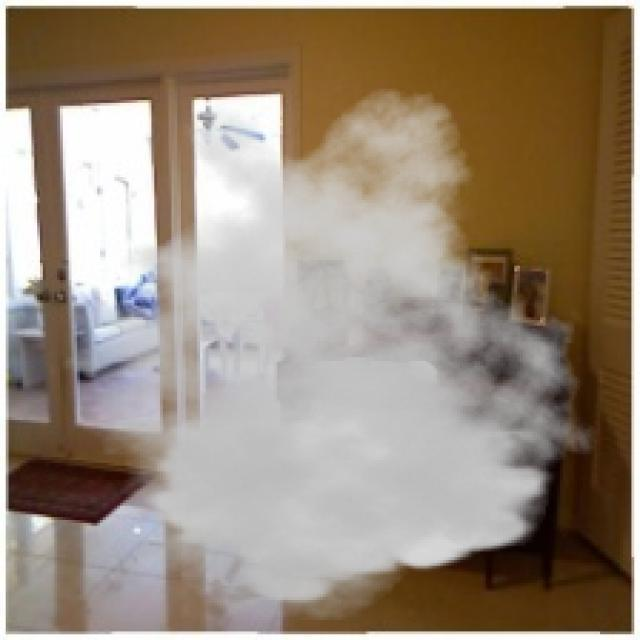Smoke: (37, 86, 606, 623)
